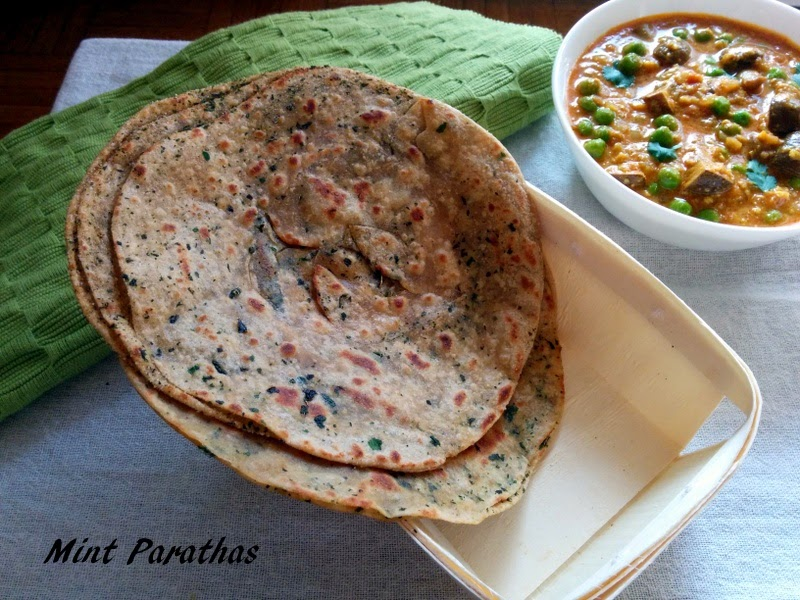aloo_paratha: (71, 68, 562, 521)
